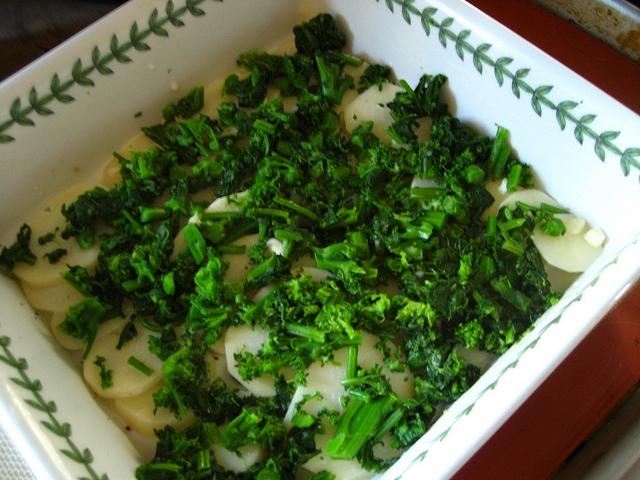broccoli: (384, 294, 468, 351), (406, 342, 471, 404), (341, 391, 399, 460), (293, 12, 364, 68), (135, 426, 204, 480), (311, 239, 368, 298), (357, 406, 406, 474), (160, 334, 212, 386), (126, 146, 178, 196), (373, 207, 432, 248), (360, 142, 417, 184), (101, 237, 139, 294), (194, 246, 230, 306), (249, 55, 300, 97), (0, 223, 38, 279), (222, 406, 264, 454), (110, 152, 142, 213), (213, 212, 259, 253), (316, 57, 354, 106), (164, 122, 213, 159), (191, 376, 227, 426), (242, 119, 278, 168), (246, 252, 292, 290), (280, 268, 326, 306), (236, 452, 298, 480), (316, 301, 358, 341), (246, 349, 298, 381), (179, 293, 233, 323), (372, 251, 416, 287), (214, 160, 254, 198), (222, 74, 266, 107), (229, 393, 279, 422), (184, 116, 222, 154), (192, 312, 228, 352), (138, 228, 170, 272), (389, 413, 426, 451), (388, 236, 441, 262), (442, 182, 473, 226), (244, 166, 276, 208), (308, 84, 344, 120), (451, 146, 485, 184), (421, 140, 449, 186), (264, 156, 306, 186), (284, 54, 314, 94), (157, 209, 180, 259), (274, 222, 315, 250), (486, 125, 508, 176), (340, 374, 390, 396), (244, 286, 278, 318), (413, 378, 443, 414), (338, 282, 379, 308), (182, 222, 206, 265), (383, 117, 421, 144), (358, 63, 392, 93), (210, 138, 242, 169), (454, 318, 484, 351), (60, 222, 96, 249), (411, 206, 448, 232), (433, 247, 461, 279), (130, 258, 164, 284), (383, 172, 413, 201), (292, 182, 328, 206), (195, 218, 228, 244), (288, 322, 325, 344), (257, 98, 290, 122), (126, 205, 171, 222), (122, 208, 144, 241), (502, 231, 530, 256), (438, 116, 462, 145), (144, 269, 166, 300), (466, 211, 488, 241), (470, 247, 491, 276), (473, 288, 496, 314), (188, 450, 217, 470), (372, 198, 407, 214), (168, 155, 186, 185), (294, 109, 314, 136), (522, 269, 546, 291), (318, 204, 338, 228), (276, 286, 290, 320), (292, 410, 316, 429), (366, 169, 390, 188), (387, 102, 412, 120), (180, 321, 196, 348), (326, 165, 351, 182), (287, 145, 308, 164), (161, 102, 180, 122), (457, 134, 478, 152), (352, 121, 374, 137), (335, 206, 356, 221), (316, 288, 332, 306), (284, 306, 296, 322), (488, 322, 506, 331), (490, 308, 500, 322), (282, 191, 292, 200), (62, 204, 68, 216)
potato: (283, 331, 415, 480), (13, 180, 114, 288), (83, 297, 165, 399), (112, 380, 201, 440), (343, 81, 410, 150), (203, 329, 251, 398), (210, 418, 266, 473), (479, 173, 526, 221), (21, 280, 87, 314), (332, 61, 370, 114), (188, 191, 246, 225), (223, 233, 260, 281), (499, 188, 566, 212), (50, 313, 84, 350), (101, 157, 122, 187), (204, 79, 225, 106), (251, 283, 277, 304), (583, 226, 605, 248), (410, 174, 444, 188), (564, 216, 586, 236)
